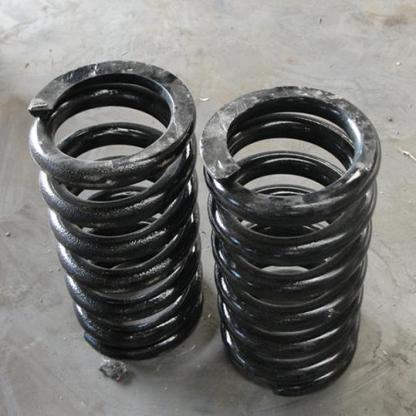FOD: (200, 80, 383, 399), (28, 54, 202, 366)
